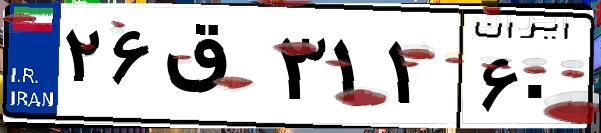0: (525, 38, 570, 115)
1: (385, 28, 445, 110), (330, 28, 385, 110)
2: (57, 26, 110, 100)
3: (270, 28, 330, 110)
6: (475, 38, 525, 113), (110, 28, 158, 98)
ق: (158, 20, 270, 120)
